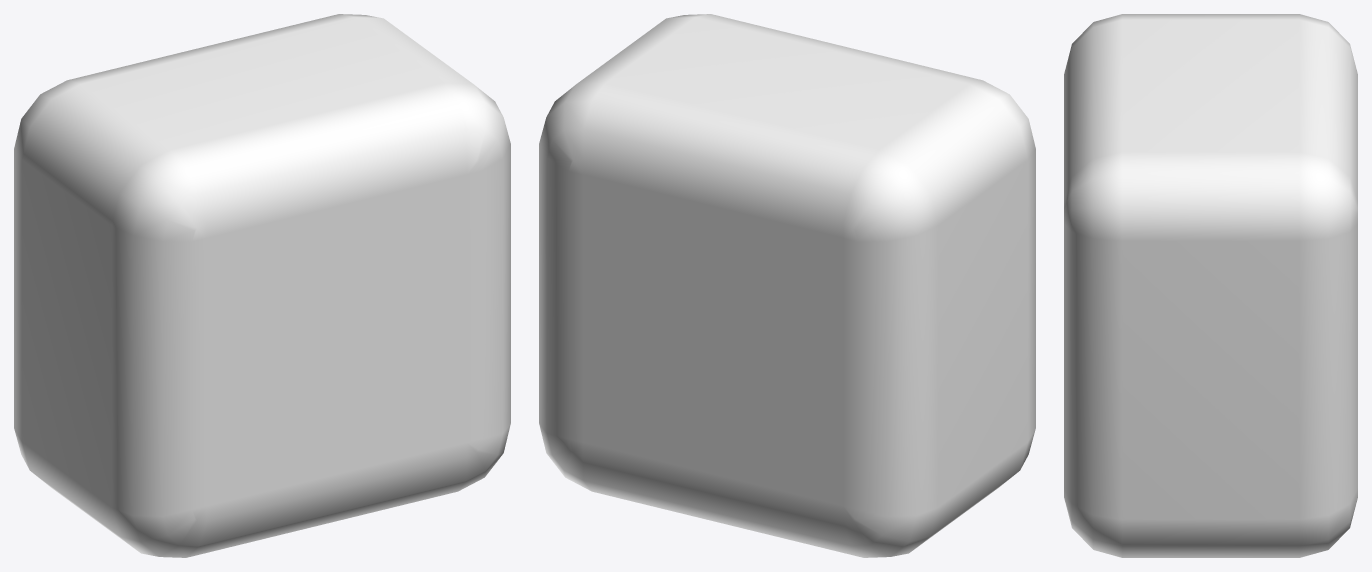
Rendered from Colored_Path_1.fbx.
3 views of the same model, side by side, from view 1: azimuth 30°, elevation 25°; view 2: azimuth 150°, elevation 25°; view 3: azimuth 270°, elevation 25° (orthographic).
Visible parts, largest first — view 1: Colored_Path; view 2: Colored_Path; view 3: Colored_Path.
Part boxes in pixels (bbox=[...]): Colored_Path: bbox=[14, 14, 510, 557]; Colored_Path: bbox=[539, 14, 1035, 557]; Colored_Path: bbox=[1064, 14, 1357, 557].
Size of the model in its own units: 199 by 197 by 131.
